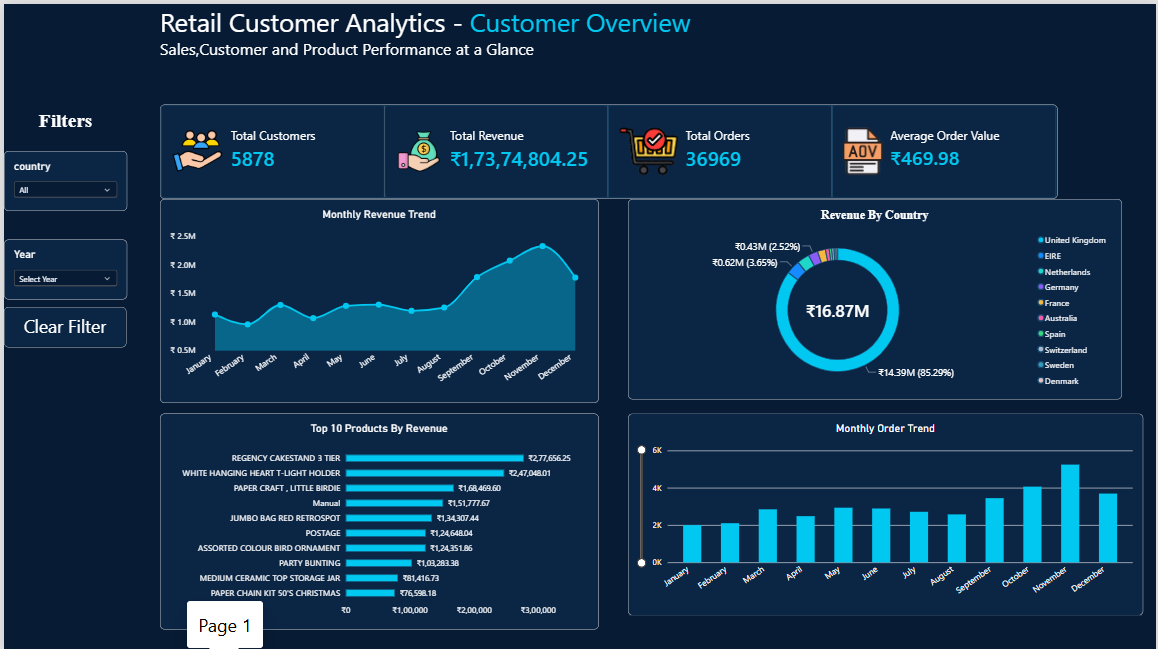

This screenshot's page, from the dashboard's own definition file:
{"tool":"powerbi","page":{"name":"Page 1","canvas":[1920,1080],"ordinal":0},"visuals":[{"type":"lineChart","title":"Monthly Revenue Trend","fields":{"Category":["public cleaned_retail.invoicedate.Variation.Date Hierarchy.Month"],"Y":["public cleaned_retail.Total Revenue"]},"box":[260.1,324.5,731.3,340.2],"z":0},{"type":"donutChart","title":"Revenue By Country","fields":{"Category":["public cleaned_retail.country"],"Y":["public cleaned_retail.Total Revenue"]},"box":[1040.3,324.5,823.1,334],"z":1000},{"type":"clusteredBarChart","title":"Top 10 Products By Revenue","fields":{"Category":["public cleaned_retail.description"],"Y":["public cleaned_retail.Total Revenue"]},"box":[260.1,682.4,731.3,360],"z":2000},{"type":"cardVisual","fields":{"Data":["public cleaned_retail.Total Customers","public cleaned_retail.Total Revenue","public cleaned_retail.Total Orders","public cleaned_retail.Average Order Value"]},"box":[260.1,167,1496,157.5],"z":3000},{"type":"clusteredColumnChart","title":"Monthly Order Trend","fields":{"Category":["public cleaned_retail.invoicedate.Variation.Date Hierarchy.Month"],"Y":["public cleaned_retail.Total Orders"]},"box":[1040.3,682.4,858.9,336.4],"z":4000},{"type":"listSlicer","fields":{"Values":["public cleaned_retail.invoicedate.Variation.Date Hierarchy.Year"]},"box":[0,393.5,205.2,100.2],"z":5000},{"type":"listSlicer","fields":{"Values":["public cleaned_retail.country"]},"box":[0,244.9,205.2,100.2],"z":6000},{"type":"textbox","box":[0,174.9,205.2,69.2],"z":7000},{"type":"textbox","box":[260,0,1496,150],"z":7002},{"type":"actionButton","box":[0,504.3,204.1,67],"z":7003}]}

Visuals, with their boxes in screenshot pixels (x1, y1, x2, y2), scaled from the page's 1920x1080 canvas onto the 1158x649 screenshot:
"Monthly Revenue Trend" lineChart: <region>157, 195, 598, 399</region>
"Revenue By Country" donutChart: <region>627, 195, 1124, 396</region>
"Top 10 Products By Revenue" clusteredBarChart: <region>157, 410, 598, 626</region>
cardVisual - public cleaned_retail.Total Customers x public cleaned_retail.Total Revenue: <region>157, 100, 1059, 195</region>
"Monthly Order Trend" clusteredColumnChart: <region>627, 410, 1145, 612</region>
listSlicer - public cleaned_retail.invoicedate.Variation.Date Hierarchy.Year: <region>0, 236, 124, 297</region>
listSlicer - public cleaned_retail.country: <region>0, 147, 124, 207</region>
textbox: <region>0, 105, 124, 147</region>
textbox: <region>157, 0, 1059, 90</region>
actionButton: <region>0, 303, 123, 343</region>
